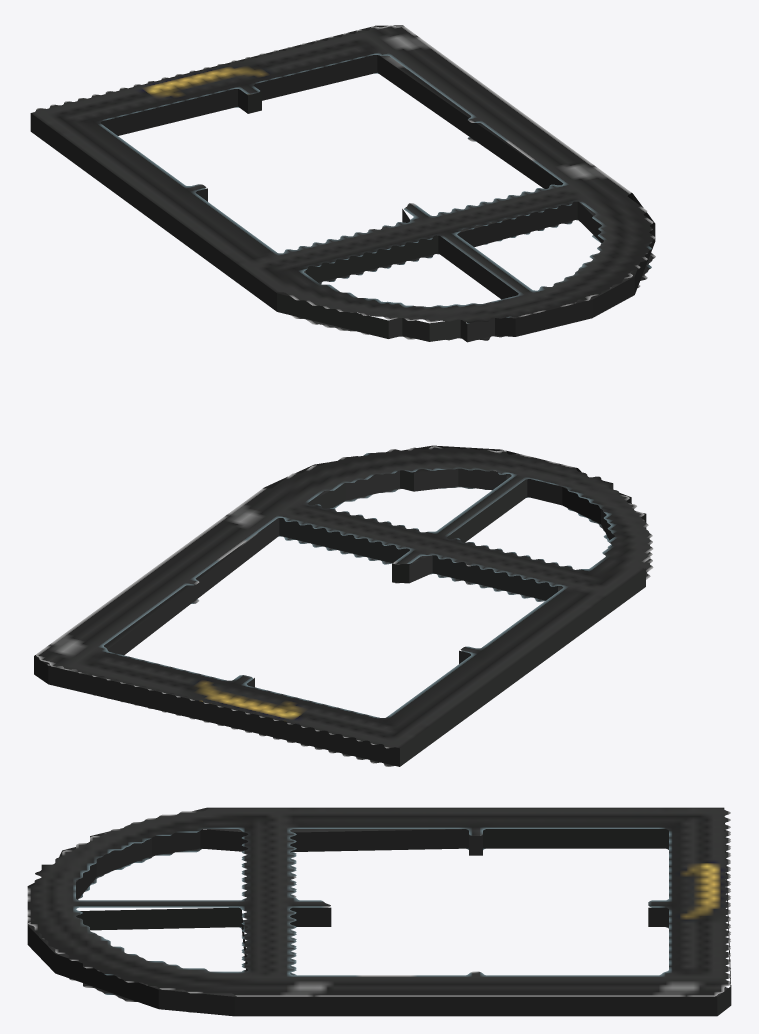
The model's file is pz_native_fixtures_windows_metal_75_frame.obj.
The picture shows the model from 3 angles, top to bottom: view 1: azimuth 30°, elevation 25°; view 2: azimuth 150°, elevation 25°; view 3: azimuth 270°, elevation 25°; orthographic projection. The views are drawn at different scales.
Visible parts, largest first — view 1: pz_native_fixtures_windows_metal_75_frame; view 2: pz_native_fixtures_windows_metal_75_frame; view 3: pz_native_fixtures_windows_metal_75_frame.
Boxes of the visible parts, x1=… form: pz_native_fixtures_windows_metal_75_frame: x1=30, y1=25, x2=655, y2=342; pz_native_fixtures_windows_metal_75_frame: x1=34, y1=445, x2=653, y2=766; pz_native_fixtures_windows_metal_75_frame: x1=27, y1=807, x2=731, y2=1016.
Bounding box in the file's own units: 0.8594 × 0.04 × 1.35.
Materials: 1 (1 with a texture image).
